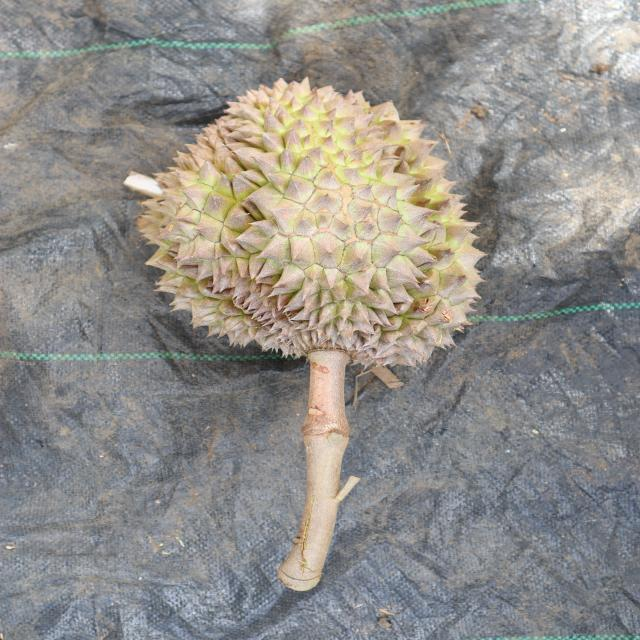mature: (138, 78, 488, 377)
